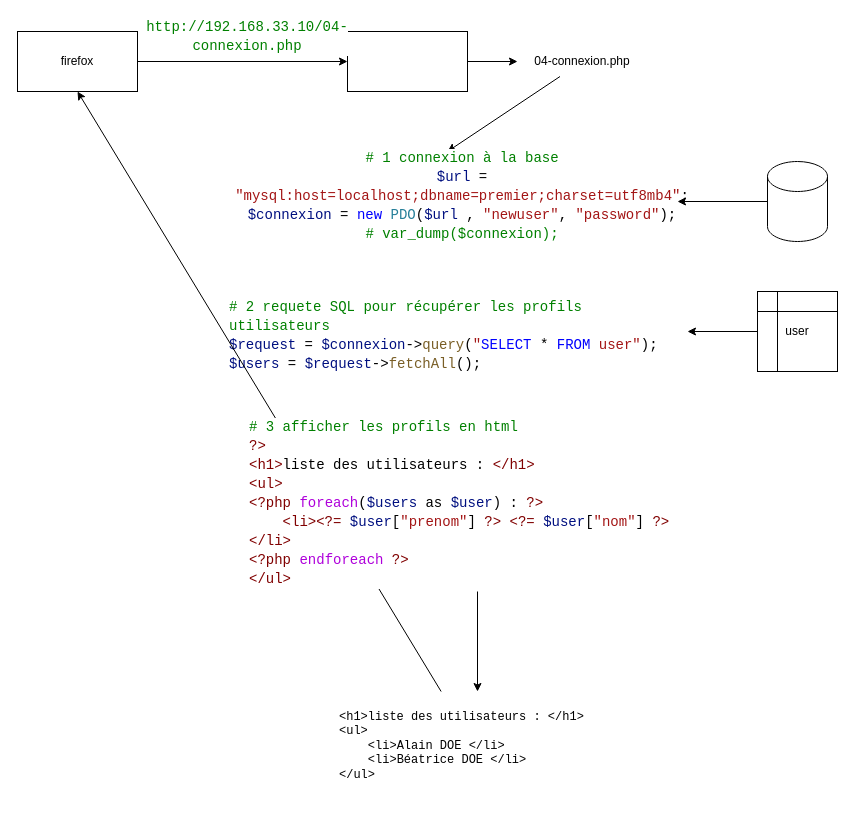
Image size: 855x828. Some labels were removed from this diagram. Here are the shapes that lost their labels. From the top down, the centre of each, then its label:
point 407,61: Apache
point 797,201: premier
